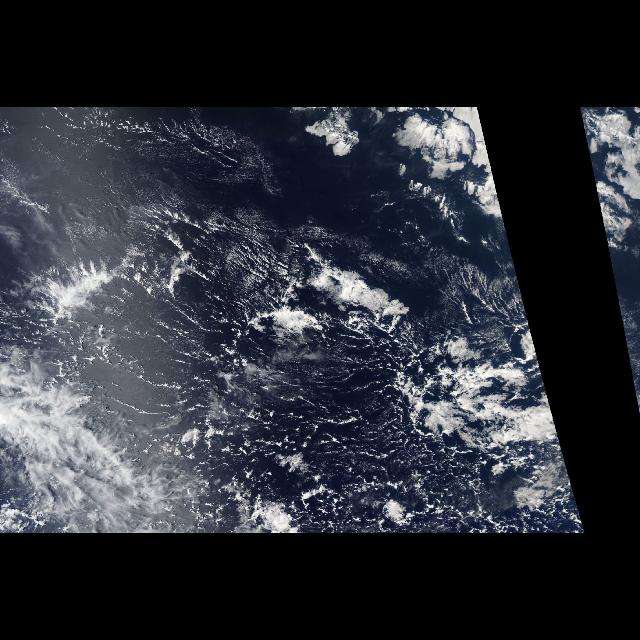Gravel: (109, 297, 585, 533)
